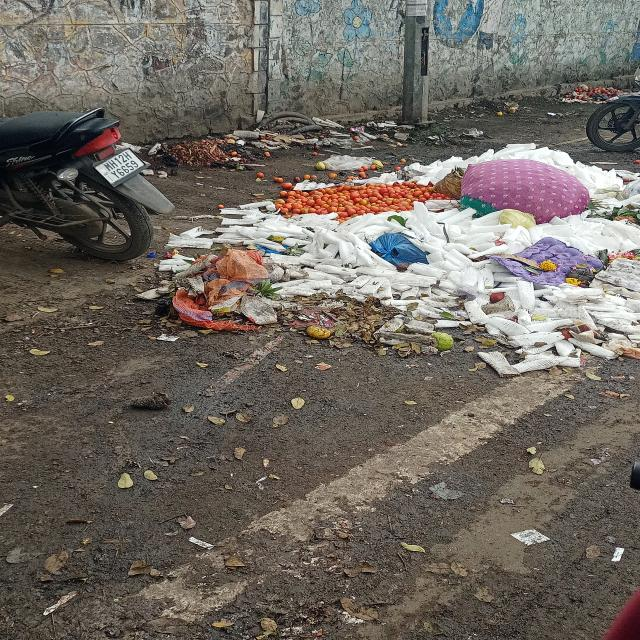garbage: (169, 134, 640, 352)
